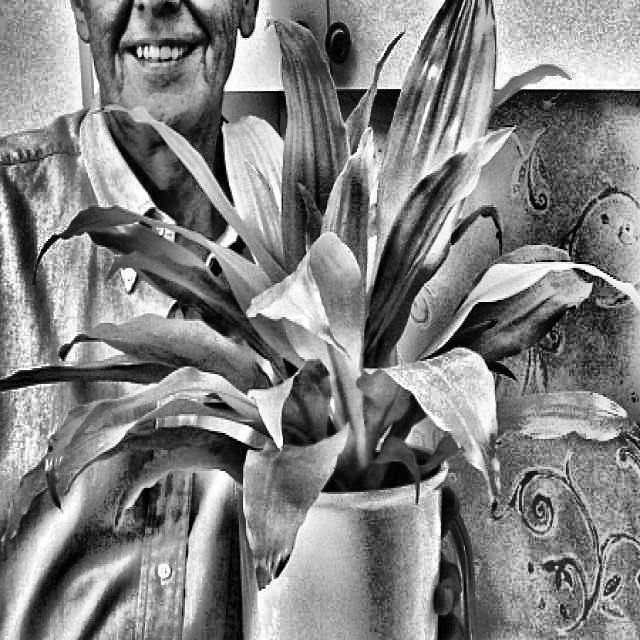plants: (233, 24, 564, 619)
